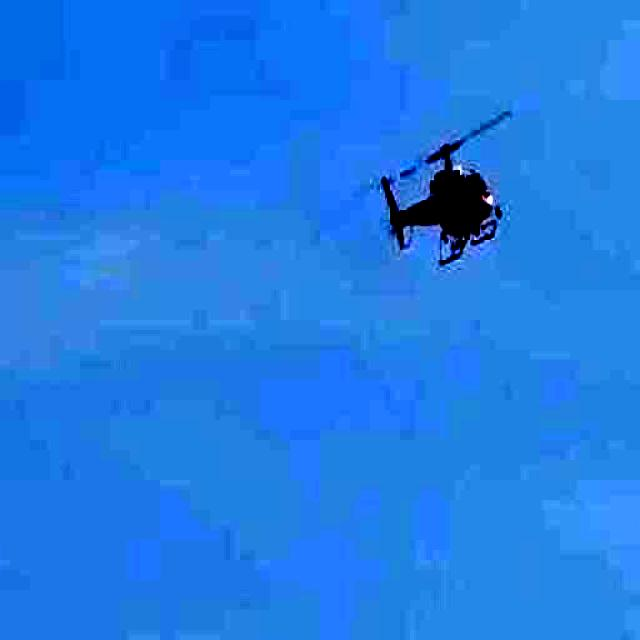drone: (340, 69, 540, 289)
